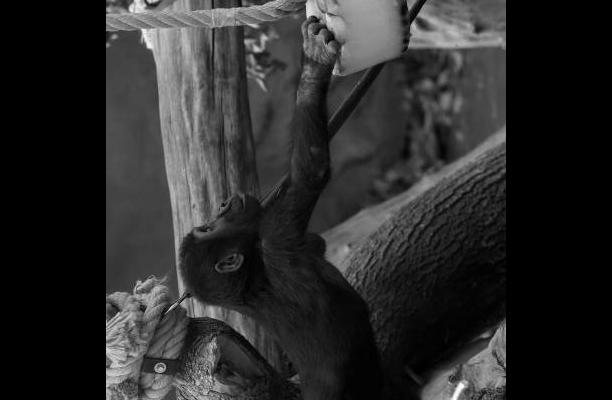gorille_Autres: (171, 65, 462, 400)
